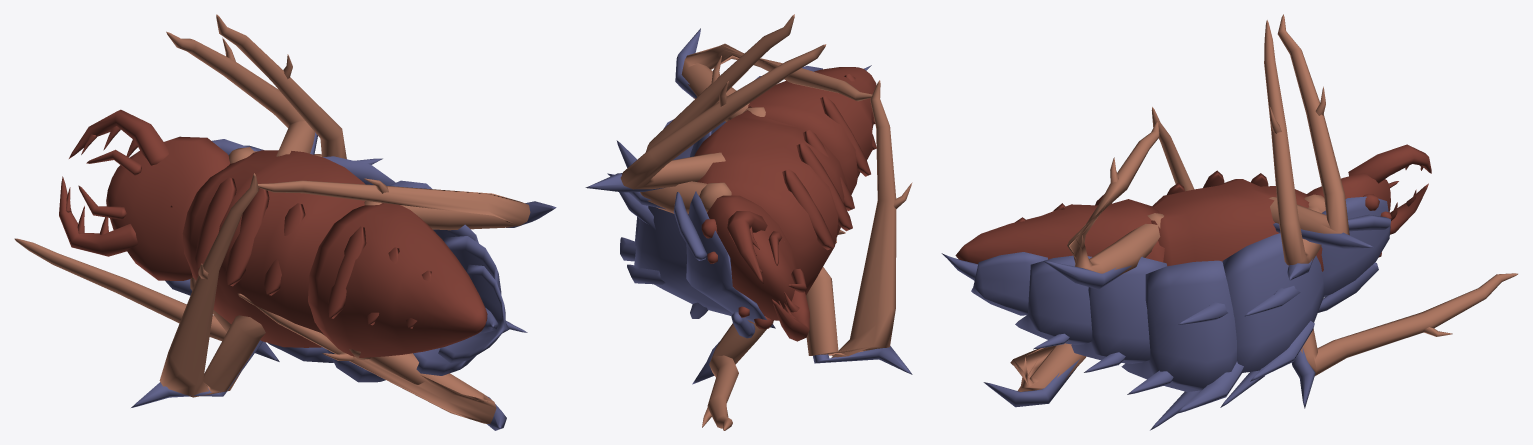
Rendered from big-biter-corpse-2.glb.
3 renders of one model, left to right at view 1: azimuth 30°, elevation 25°; view 2: azimuth 150°, elevation 25°; view 3: azimuth 270°, elevation 25°, orthographic. The views are drawn at different scales.
Visible parts, largest first — view 1: body; view 2: body; view 3: body.
Part boxes in pixels (<box>): body: <box>14,14,556,430</box>; body: <box>585,14,912,430</box>; body: <box>941,14,1517,430</box>.
Bounding box in the file's own units: 2.37 × 2.6 × 3.87.
